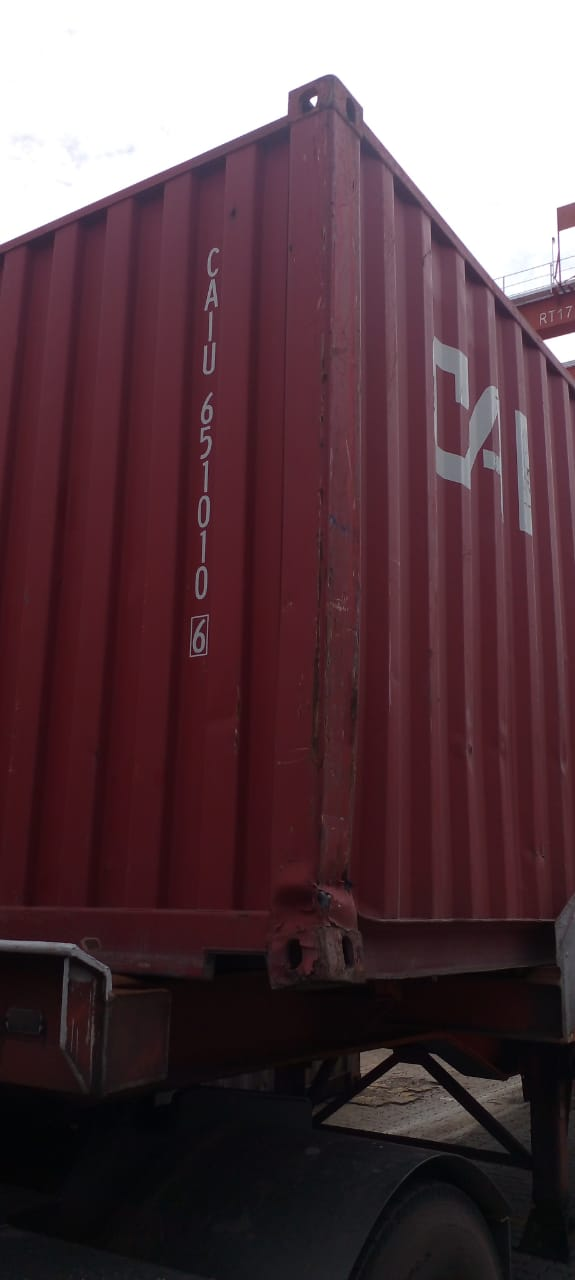bulged: (244, 837, 382, 967)
